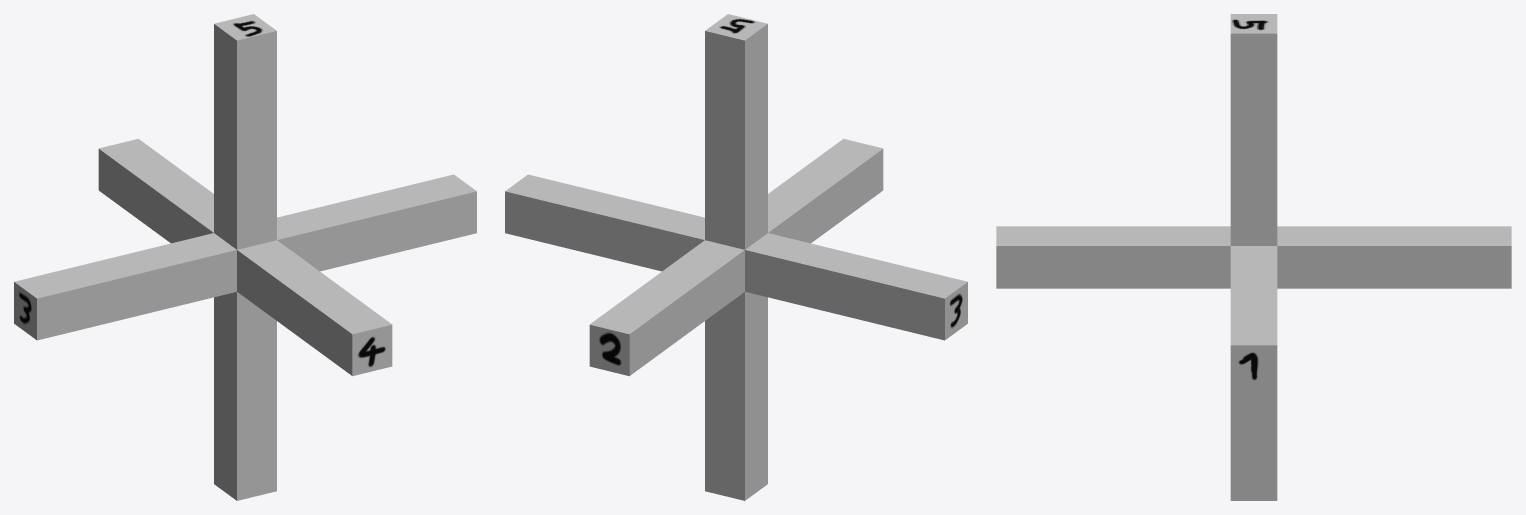
The model's file is St_RailPoint.dae.
3 views of the same model, side by side, from view 1: azimuth 30°, elevation 25°; view 2: azimuth 150°, elevation 25°; view 3: azimuth 270°, elevation 25° (orthographic).
Parts seen in each view (by area): view 1: Cube; view 2: Cube; view 3: Cube.
Boxes of the visible parts, box(x1,y1,x2,y2) form: Cube: box(14, 14, 476, 500); Cube: box(505, 14, 967, 500); Cube: box(996, 14, 1511, 500).
Bounding box in the file's own units: 11 × 11 × 11.
